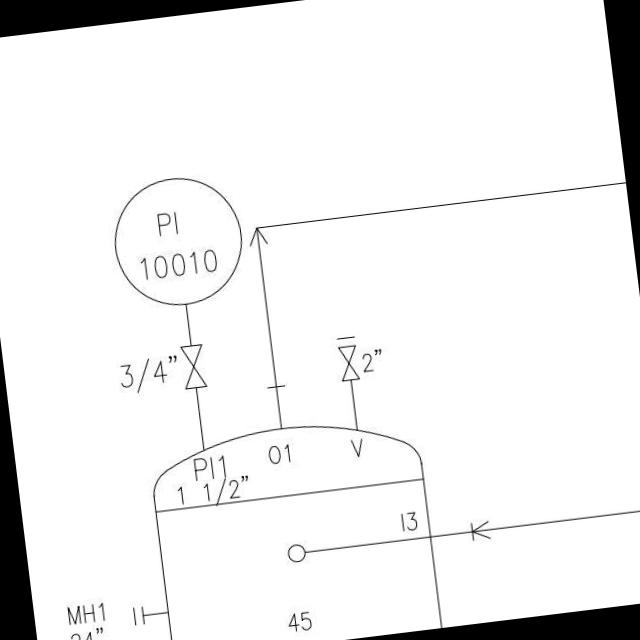GV: (177, 341, 211, 394), (335, 342, 361, 385)
